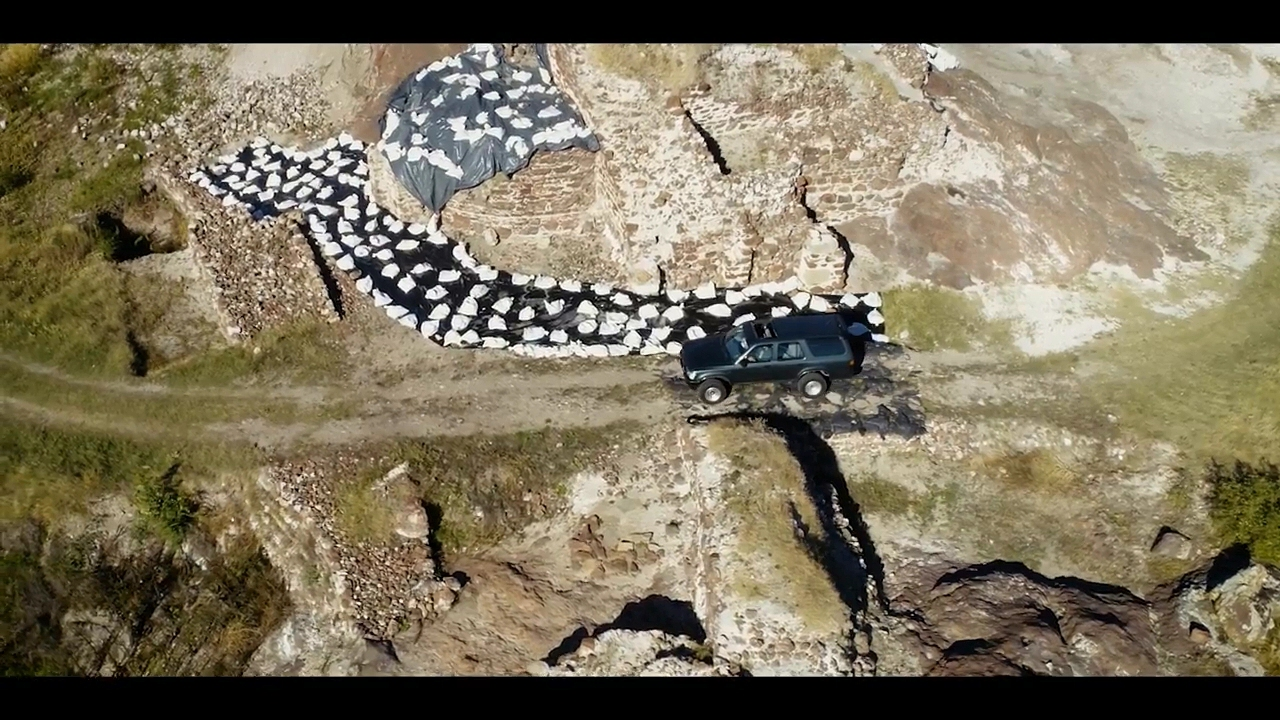araba: (678, 303, 859, 402)
